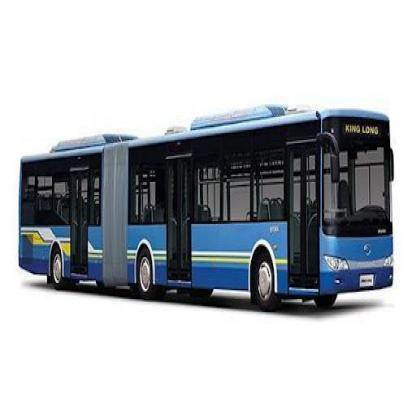Bus: (15, 104, 392, 341)
